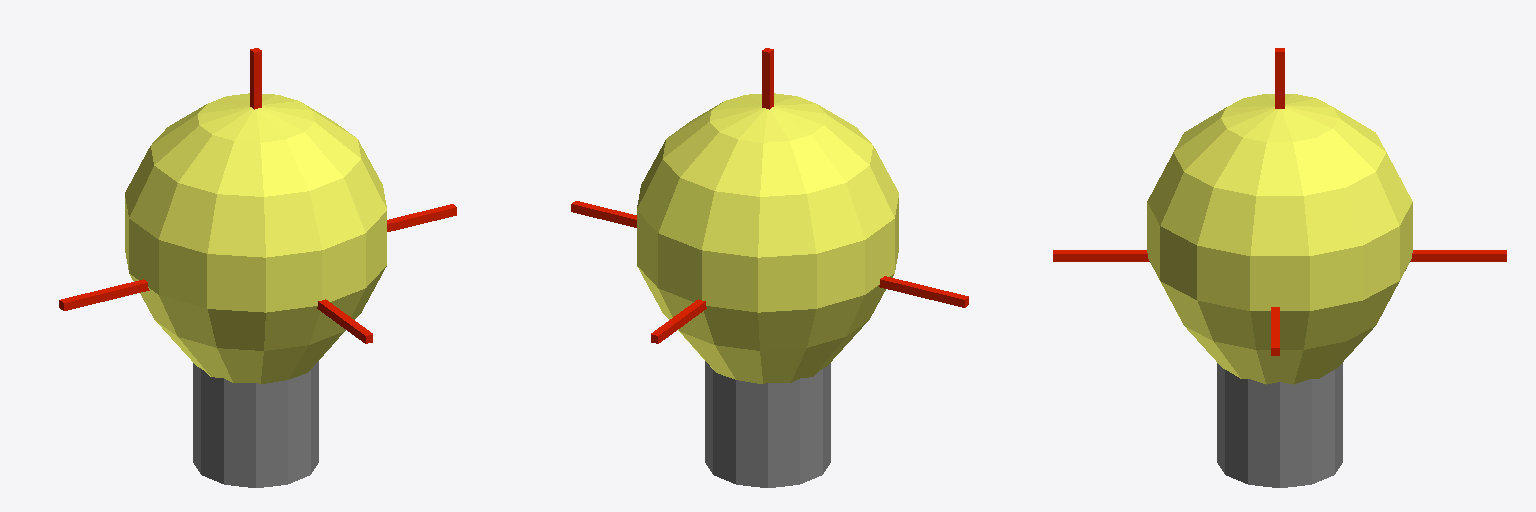
File: pointLight.obj
3 renders of one model, left to right at view 1: azimuth 30°, elevation 25°; view 2: azimuth 150°, elevation 25°; view 3: azimuth 270°, elevation 25°, orthographic.
Visible parts, largest first — view 1: point_light; view 2: point_light; view 3: point_light.
Part boxes in pixels (left/top/right/bottom): point_light: left=59, top=48, right=456, bottom=487; point_light: left=571, top=48, right=968, bottom=487; point_light: left=1053, top=48, right=1506, bottom=487.
Bounding box in the file's own units: 100 × 100 × 100.